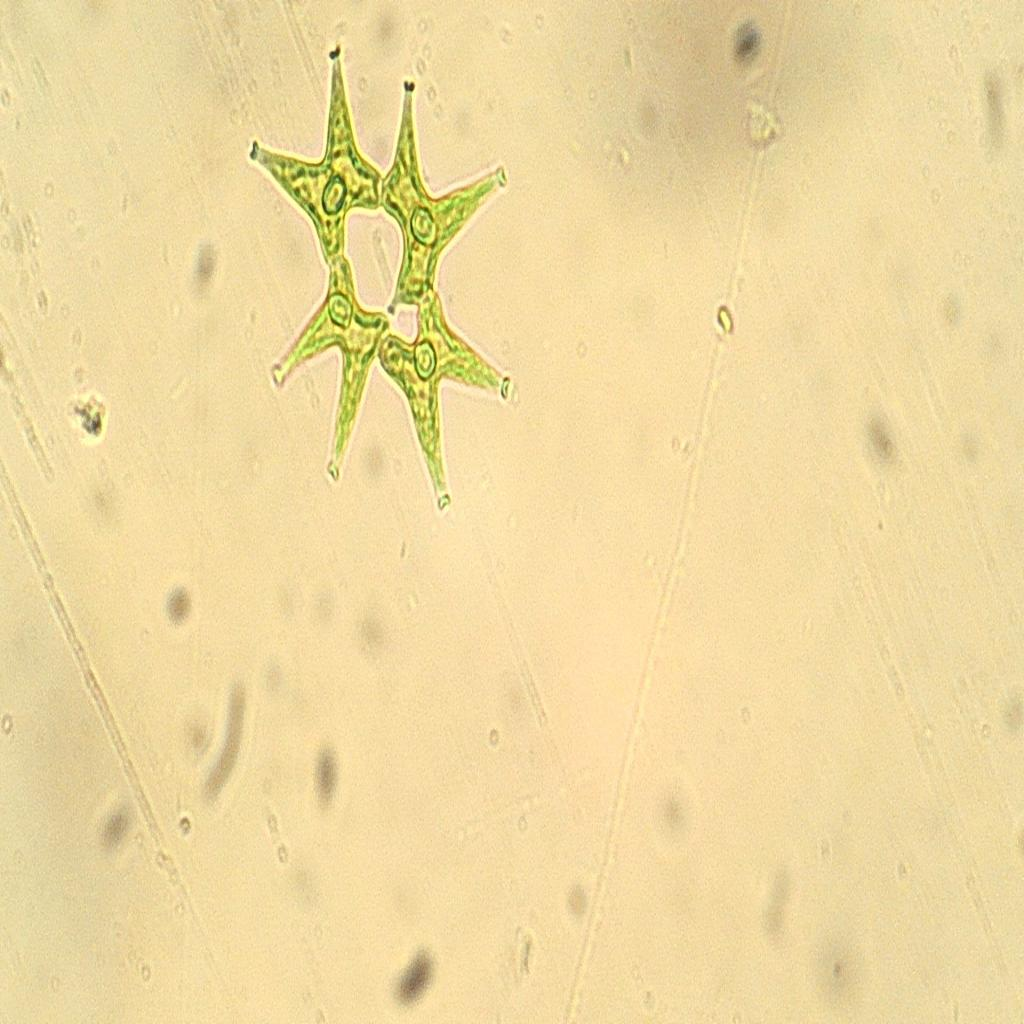Pediastrum_CF: (239, 39, 526, 535)
